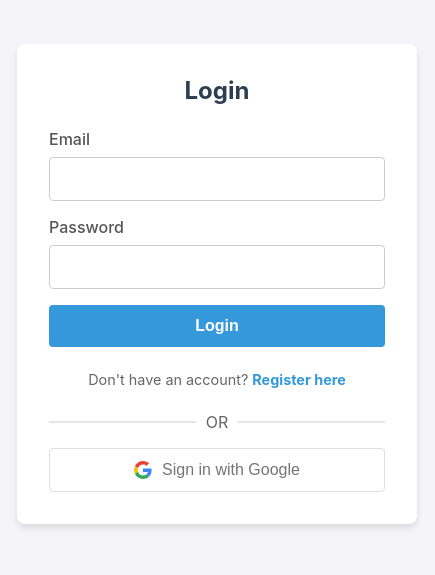
Scenario: Login › clears error when toggling mode
This screenshot has width=435, height=575.
Type "test@test.com" into the field. click: (217, 179)
box: [49, 157, 385, 201]
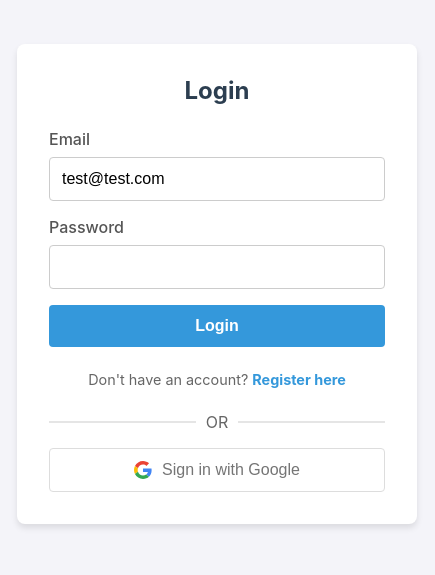
Type "wrong" into the password field. click: (217, 267)
box: [49, 245, 385, 289]
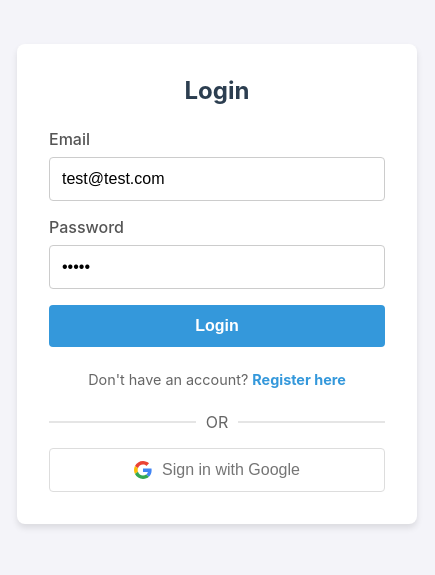
Click the button "Login". click: (217, 326)
box: [49, 305, 385, 347]
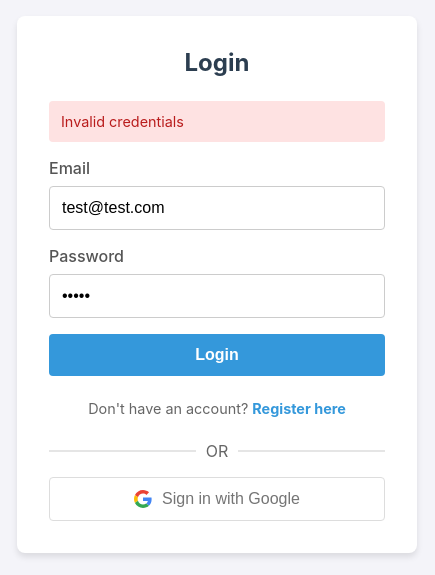
Now the text "Invalid credentials" is shown, box [49, 100, 385, 142]
Click the text "Register here". click: (299, 408)
box: [252, 400, 346, 416]
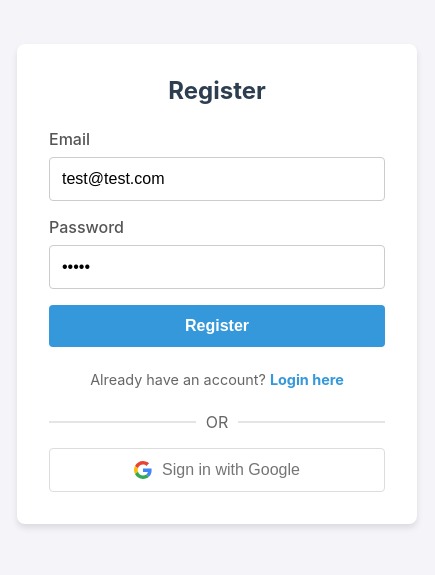
Now the text "Invalid credentials" is gone
